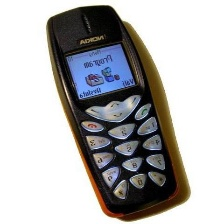phone: (44, 2, 186, 221)
